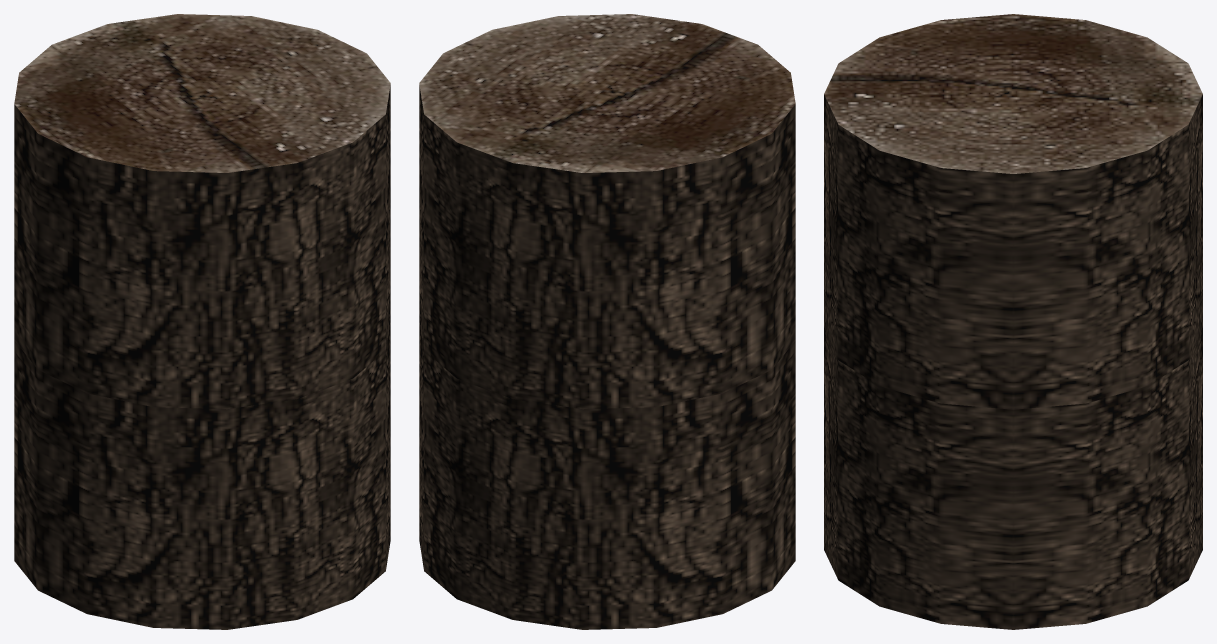
File: Log.fbx
The picture shows the model from 3 angles, left to right: view 1: azimuth 30°, elevation 25°; view 2: azimuth 150°, elevation 25°; view 3: azimuth 270°, elevation 25°; orthographic projection.
Visible parts, largest first — view 1: Log; view 2: Log; view 3: Log.
Part boxes in pixels (x1,y1,x2,y2): Log: (14, 14, 390, 629); Log: (419, 14, 795, 629); Log: (824, 14, 1202, 629).
Size of the model in its own units: 0.4 by 0.531 by 0.4.
